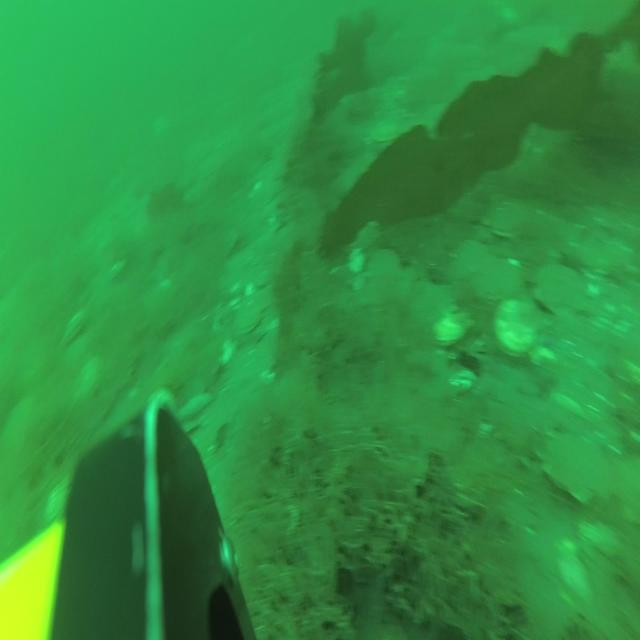scallop: (545, 431, 612, 506), (539, 262, 585, 324), (496, 296, 537, 361), (471, 249, 513, 305), (490, 196, 530, 243), (448, 233, 484, 280), (434, 301, 468, 347), (369, 246, 401, 288), (235, 300, 262, 338), (61, 311, 87, 344)
